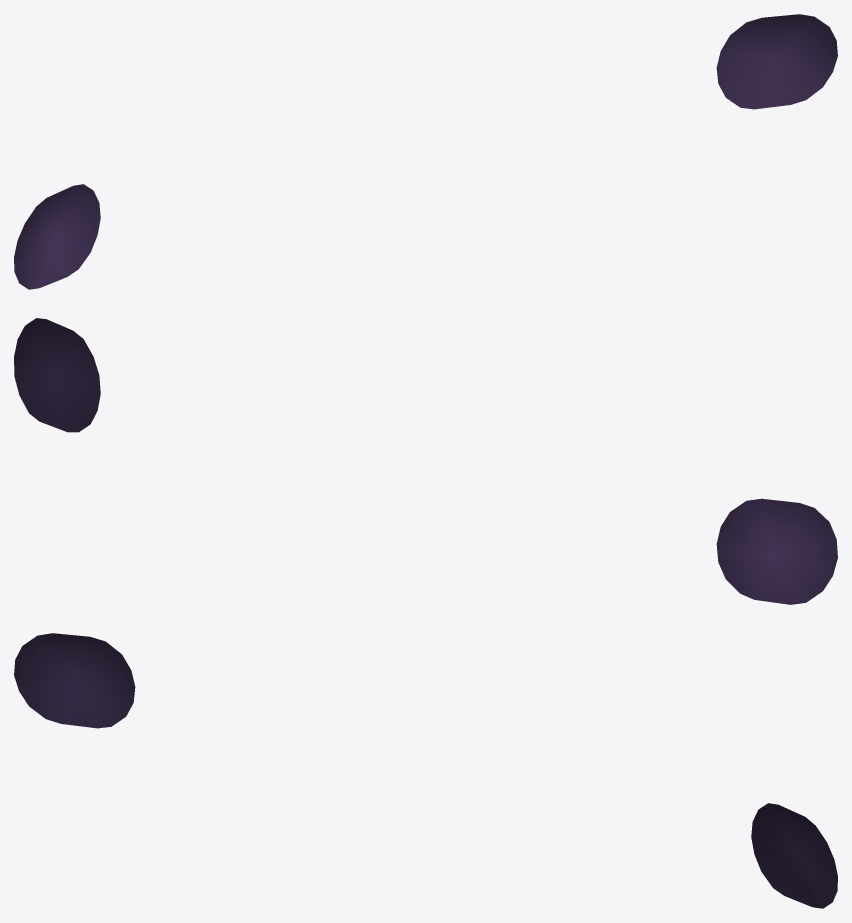
Rendered from MX5_BrakeLight03_Detail.fbx.
3 renders of one model, top to bottom at view 1: azimuth 30°, elevation 25°; view 2: azimuth 150°, elevation 25°; view 3: azimuth 330°, elevation 25°, orthographic.
Parts seen in each view (by area): view 1: MX5_BrakeLight03_Detail; view 2: MX5_BrakeLight03_Detail; view 3: MX5_BrakeLight03_Detail.
Part boxes in pixels (x1,y1,x2,y2): MX5_BrakeLight03_Detail: (14,14,837,289); MX5_BrakeLight03_Detail: (14,318,837,604); MX5_BrakeLight03_Detail: (14,633,837,908).
Bounding box in the file's own units: 116 × 13.02 × 4.71.
